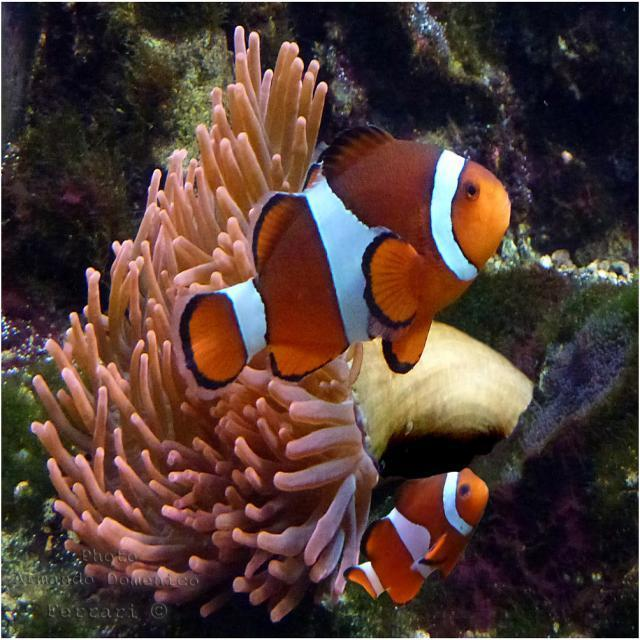ClownFish: (174, 124, 511, 390), (345, 470, 490, 606)
